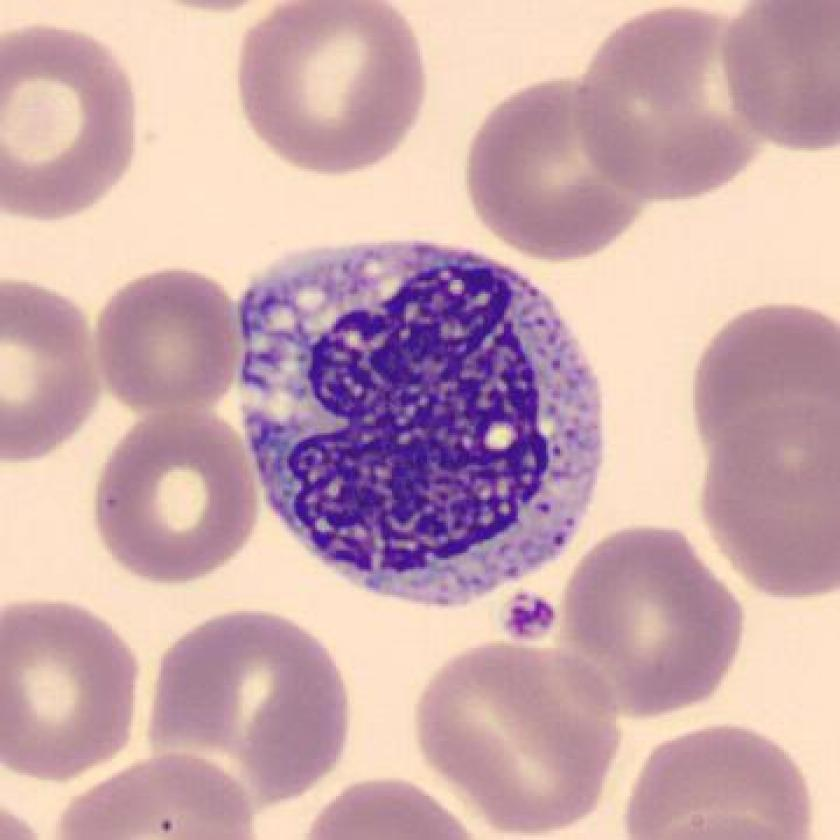monocyte: (213, 221, 631, 630)
